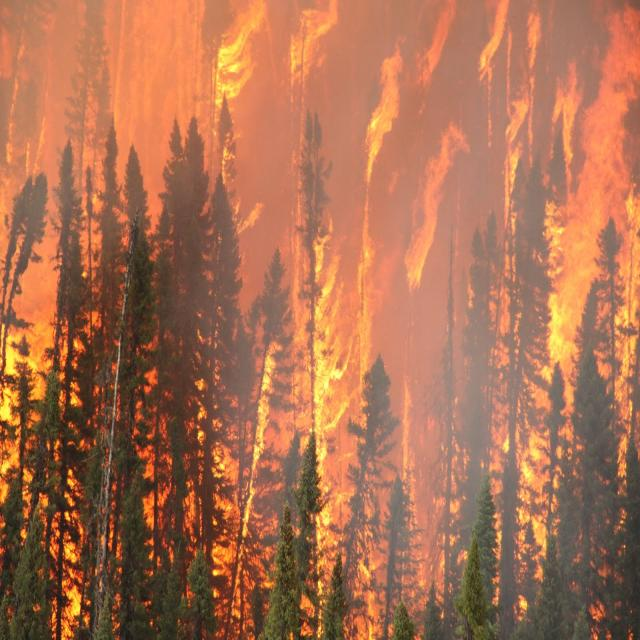Fire: (0, 61, 638, 602)
